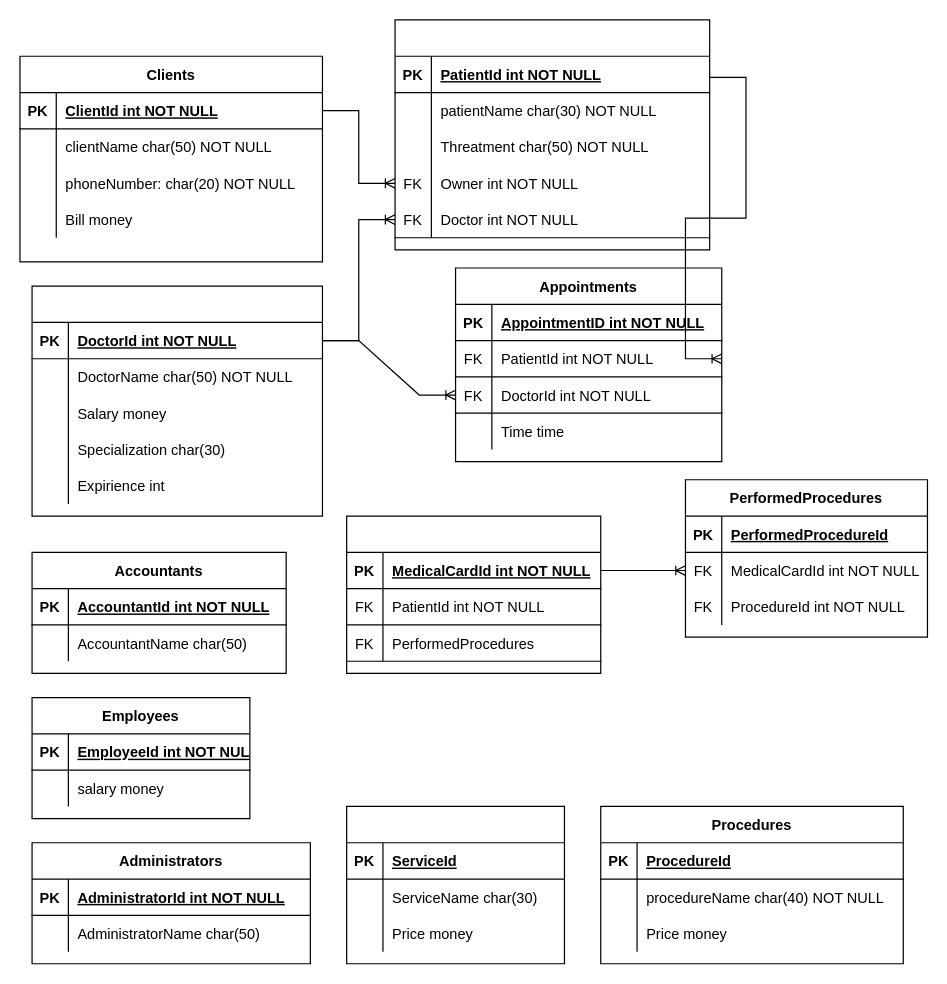
This 947x984 diagram has some shape labels left out. Each missing label, with the box of its shape:
Doctors: (31, 285, 322, 516)
MedicalCards: (345, 515, 601, 673)
Patients: (394, 19, 710, 250)
Services: (345, 805, 564, 964)
